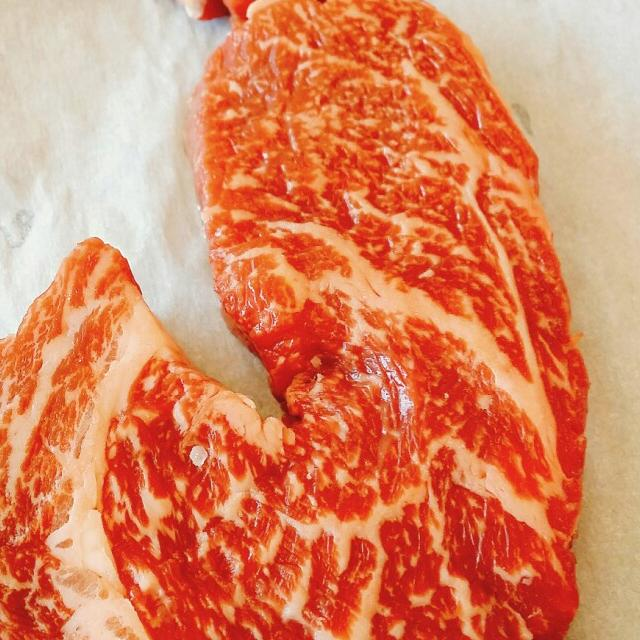beef: (0, 0, 626, 640), (261, 108, 527, 426)
